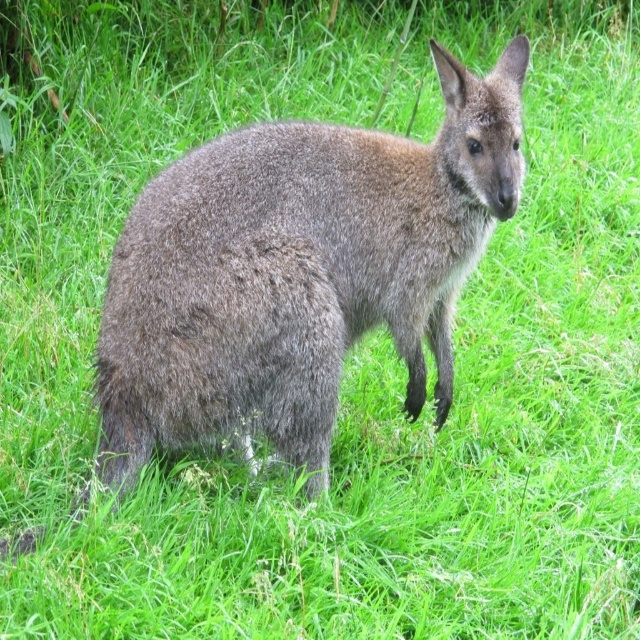Kangaroo: (0, 33, 531, 563)
